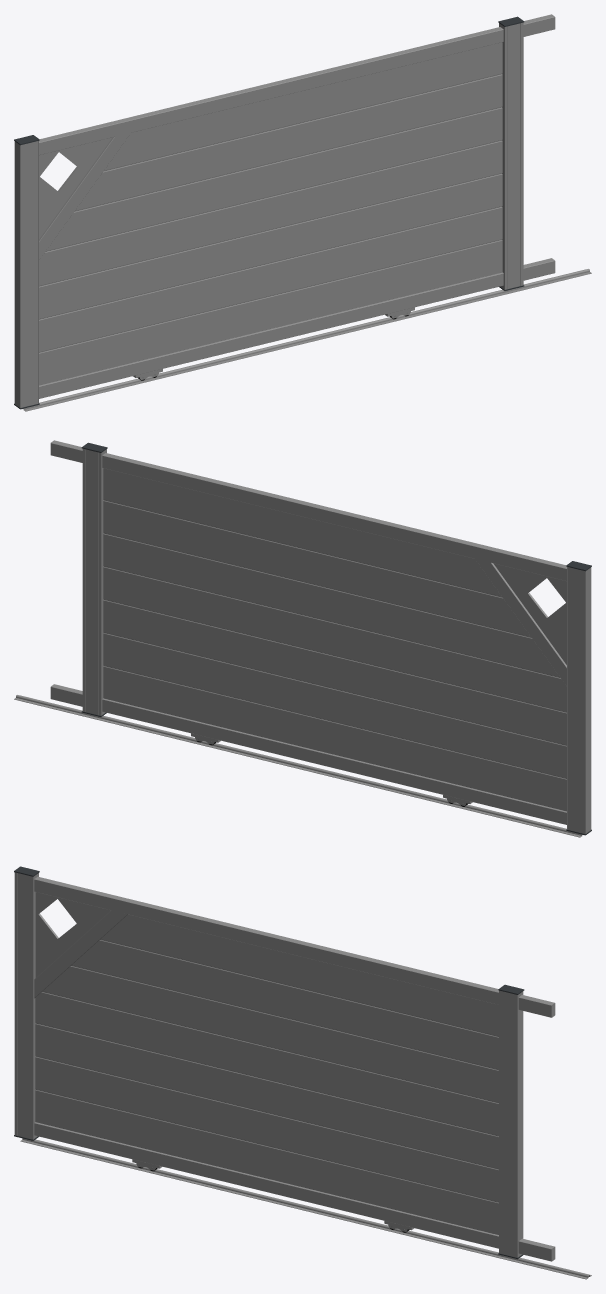
The picture shows the model from 3 angles, top to bottom: view 1: azimuth 30°, elevation 25°; view 2: azimuth 150°, elevation 25°; view 3: azimuth 330°, elevation 25°; orthographic projection.
Visible parts, largest first — view 1: Shape107412936, Shape107412937, Shape107412935, Shape107412939, Shape107412643, Shape107413021, Rail, losange001, Shape107412938; view 2: Shape107412936, Shape107412937, Shape107412935, Shape107412939, Shape107412643, Shape107413021, Rail, losange001, Shape107412938; view 3: Shape107412936, Shape107412937, Shape107412935, Shape107412939, Shape107413021, Shape107412643, Rail, losange001, Shape107412938.
Boxes of the visible parts, left/top/right/bottom form: Shape107412936: left=39, top=42, right=502, bottom=352; Shape107412937: left=39, top=239, right=502, bottom=385; Shape107412935: left=39, top=14, right=555, bottom=155; Shape107412939: left=39, top=258, right=555, bottom=398; Shape107412643: left=14, top=141, right=38, bottom=407; Shape107413021: left=499, top=22, right=523, bottom=289; Rail: left=23, top=269, right=591, bottom=411; losange001: left=39, top=137, right=112, bottom=238; Shape107412938: left=39, top=133, right=130, bottom=259; Shape107412936: left=103, top=468, right=566, bottom=778; Shape107412937: left=103, top=665, right=566, bottom=811; Shape107412935: left=50, top=440, right=566, bottom=581; Shape107412939: left=50, top=684, right=566, bottom=824; Shape107412643: left=567, top=567, right=591, bottom=833; Shape107413021: left=82, top=448, right=106, bottom=715; Rail: left=14, top=695, right=582, bottom=837; losange001: left=493, top=563, right=566, bottom=664; Shape107412938: left=471, top=554, right=566, bottom=686; Shape107412936: left=35, top=914, right=498, bottom=1201; Shape107412937: left=35, top=1089, right=498, bottom=1234; Shape107412935: left=34, top=876, right=555, bottom=1017; Shape107412939: left=34, top=1122, right=555, bottom=1261; Shape107413021: left=499, top=990, right=523, bottom=1257; Shape107412643: left=14, top=872, right=38, bottom=1139; Rail: left=20, top=1138, right=591, bottom=1279; losange001: left=35, top=892, right=110, bottom=977; Shape107412938: left=34, top=910, right=127, bottom=998.
Size of the model in its own units: 3638 by 1636 by 70.
6 materials, 2 textured.
